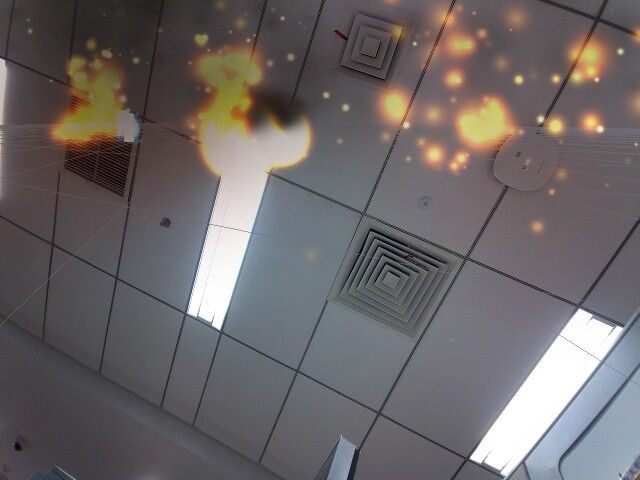fire: (196, 102, 290, 178), (259, 103, 314, 172)
